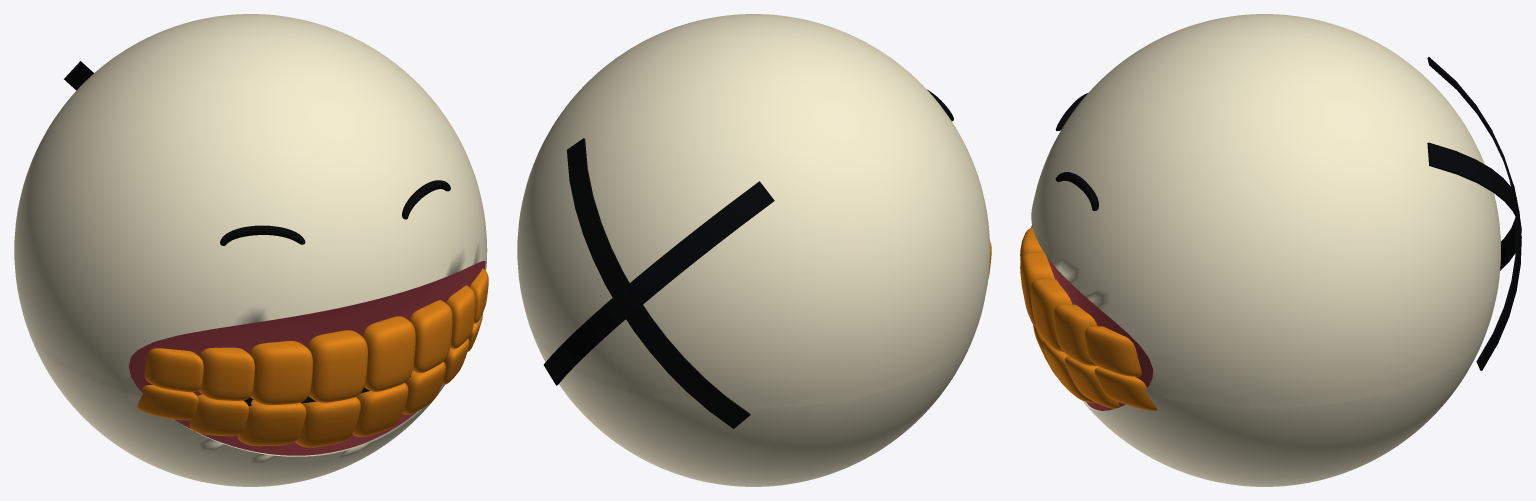
Rendered from LuckyCrax_TeteSeule.obj.
The picture shows the model from 3 angles, left to right: view 1: azimuth 30°, elevation 25°; view 2: azimuth 150°, elevation 25°; view 3: azimuth 270°, elevation 25°; orthographic projection.
Visible parts, largest first — view 1: Uppershell1, Lowershell1, Uppergums1, Tooth031, Tooth021, Tooth041, Tooth011, Tooth121, Tooth131, Tooth051, Tooth001, Tooth141 (+9 smaller); view 2: Uppershell1, Lowershell1, Crossstroke24, Crossstroke23, Crossstroke22, Crossstroke21, Crossstroke12, Crossstroke20, Crossstroke11, Crossstroke10, Crossstroke9, Crossstroke8 (+10 smaller); view 3: Uppershell1, Lowershell1, Tooth071, Tooth061, Tooth051, Uppergums1, Tooth171, Tooth161, Tooth041, Tooth151, Crossstroke1.
Boxes of the visible parts, x1,y1,x2,y2 form: Uppershell1: (14, 14, 487, 396); Lowershell1: (28, 331, 444, 486); Uppergums1: (128, 261, 485, 395); Tooth031: (307, 330, 367, 402); Tooth021: (249, 341, 312, 405); Tooth041: (362, 316, 415, 391); Tooth011: (198, 347, 254, 400); Tooth121: (237, 400, 306, 446); Tooth131: (295, 397, 360, 447); Tooth051: (409, 300, 452, 372); Tooth001: (144, 348, 203, 392); Tooth141: (352, 383, 408, 436); Uppershell1: (517, 14, 990, 408); Lowershell1: (531, 331, 975, 486); Crossstroke24: (729, 181, 774, 223); Crossstroke23: (703, 203, 745, 243); Crossstroke22: (679, 223, 719, 262); Crossstroke21: (657, 242, 695, 279); Crossstroke12: (708, 396, 750, 428); Crossstroke20: (637, 259, 673, 296); Crossstroke11: (687, 378, 726, 411); Crossstroke10: (667, 359, 704, 392); Crossstroke9: (649, 338, 685, 373); Crossstroke8: (633, 317, 667, 352); Uppershell1: (1031, 14, 1500, 408); Lowershell1: (1083, 331, 1486, 486); Tooth071: (1084, 326, 1141, 376); Tooth061: (1053, 304, 1097, 365); Tooth051: (1030, 278, 1072, 351); Uppergums1: (1046, 256, 1152, 387); Tooth171: (1094, 367, 1156, 410); Tooth161: (1065, 356, 1119, 408); Tooth041: (1020, 252, 1054, 328); Tooth151: (1042, 340, 1096, 402); Crossstroke1: (1427, 142, 1458, 174).
Bounding box in the file's own units: 8 × 8 × 8.49.
